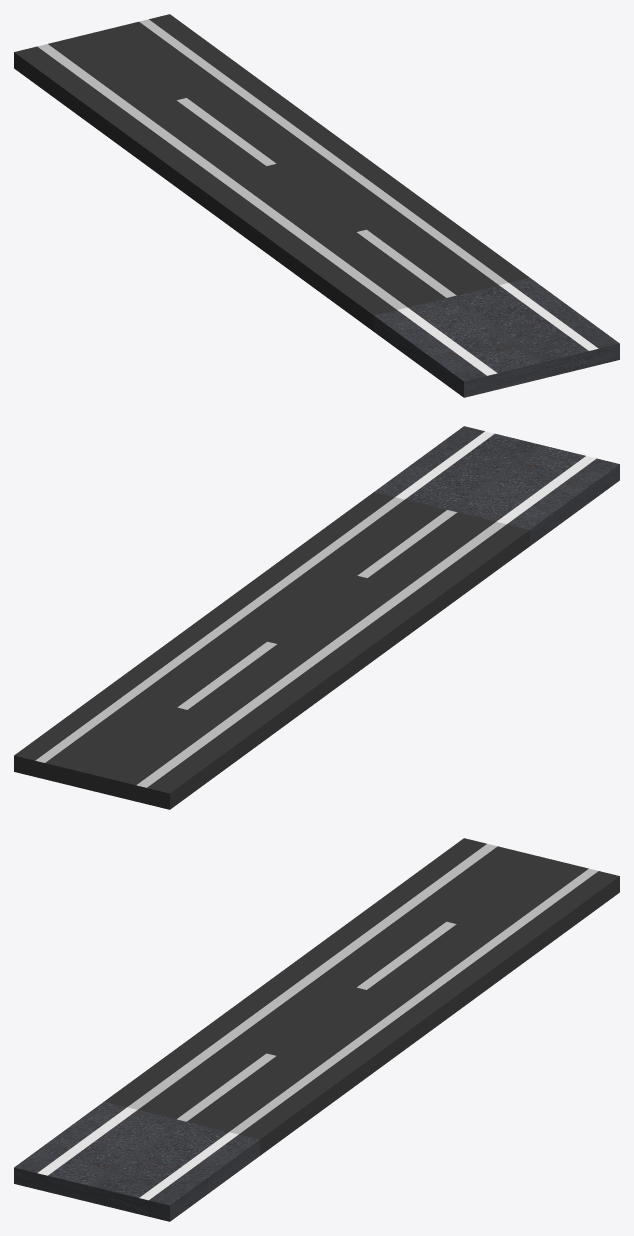
Rendered from road.obj.
3 views of the same model, one above another, from view 1: azimuth 30°, elevation 25°; view 2: azimuth 150°, elevation 25°; view 3: azimuth 330°, elevation 25° (orthographic).
Parts seen in each view (by area): view 1: Cube.004, Cube.002, Cube, Cube.003, Cube.001; view 2: Cube.002, Cube.004, Cube, Cube.003, Cube.001; view 3: Cube.004, Cube.002, Cube, Cube.003, Cube.001.
Boxes of the visible parts, x1=… form: Cube.004: x1=374, y1=277, x2=619, y2=397; Cube.002: x1=14, y1=14, x2=259, y2=133; Cube: x1=284, y1=212, x2=529, y2=331; Cube.003: x1=104, y1=80, x2=349, y2=199; Cube.001: x1=194, y1=146, x2=439, y2=265; Cube.002: x1=14, y1=689, x2=259, y2=809; Cube.004: x1=374, y1=426, x2=619, y2=545; Cube: x1=284, y1=492, x2=529, y2=611; Cube.003: x1=104, y1=624, x2=349, y2=743; Cube.001: x1=194, y1=558, x2=439, y2=677; Cube.004: x1=14, y1=1101, x2=259, y2=1221; Cube.002: x1=374, y1=838, x2=619, y2=957; Cube: x1=104, y1=1036, x2=349, y2=1155; Cube.003: x1=284, y1=904, x2=529, y2=1023; Cube.001: x1=194, y1=970, x2=439, y2=1089.
Bounding box in the file's own units: 2 × 0.2 × 10.
10 materials, 2 textured.
